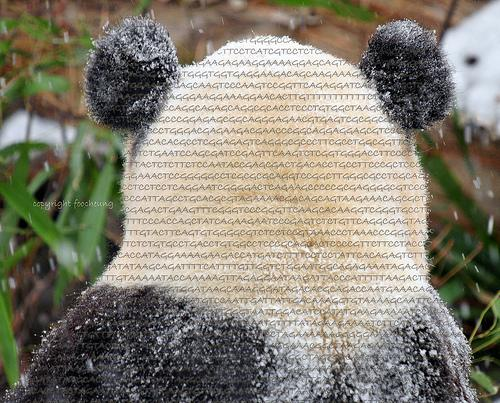panda: (7, 18, 475, 400)
